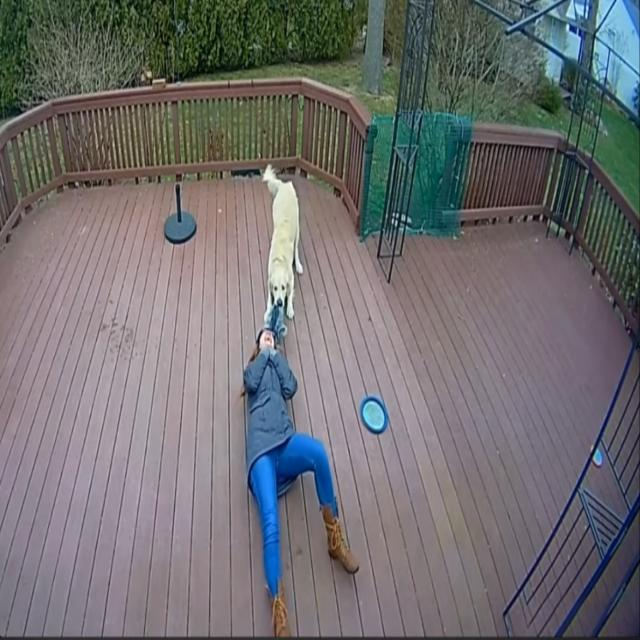fallen: (240, 325, 358, 636)
